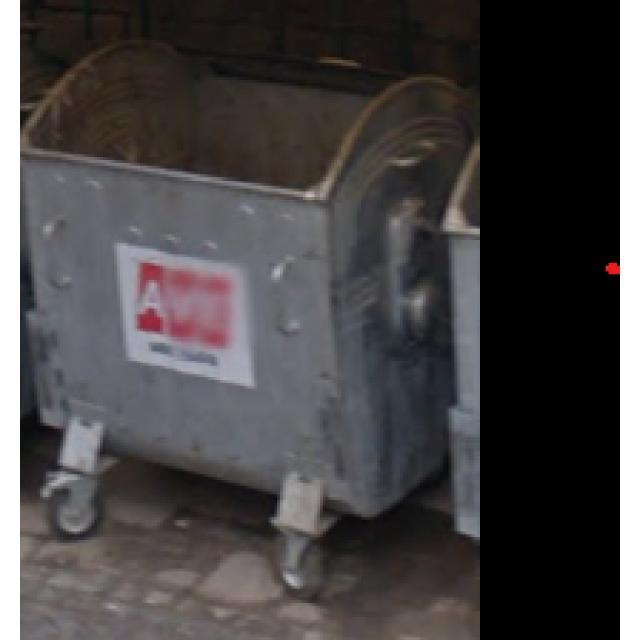general wastetrash bin: (28, 39, 448, 616)
